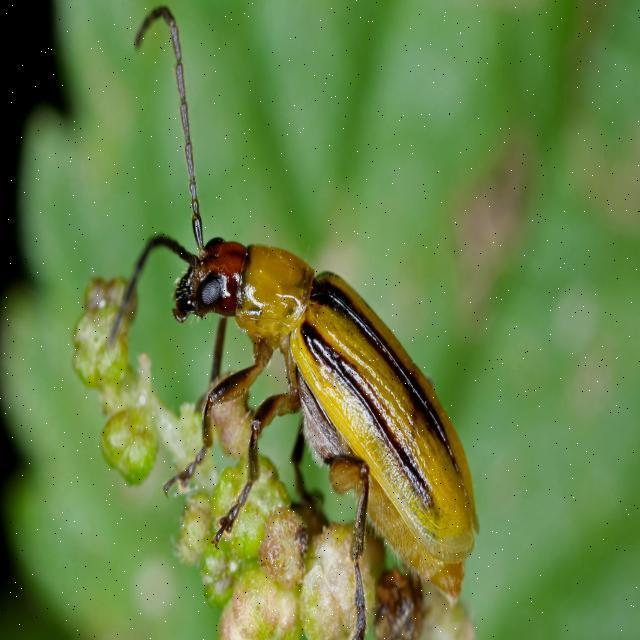trips: (128, 4, 482, 640)
